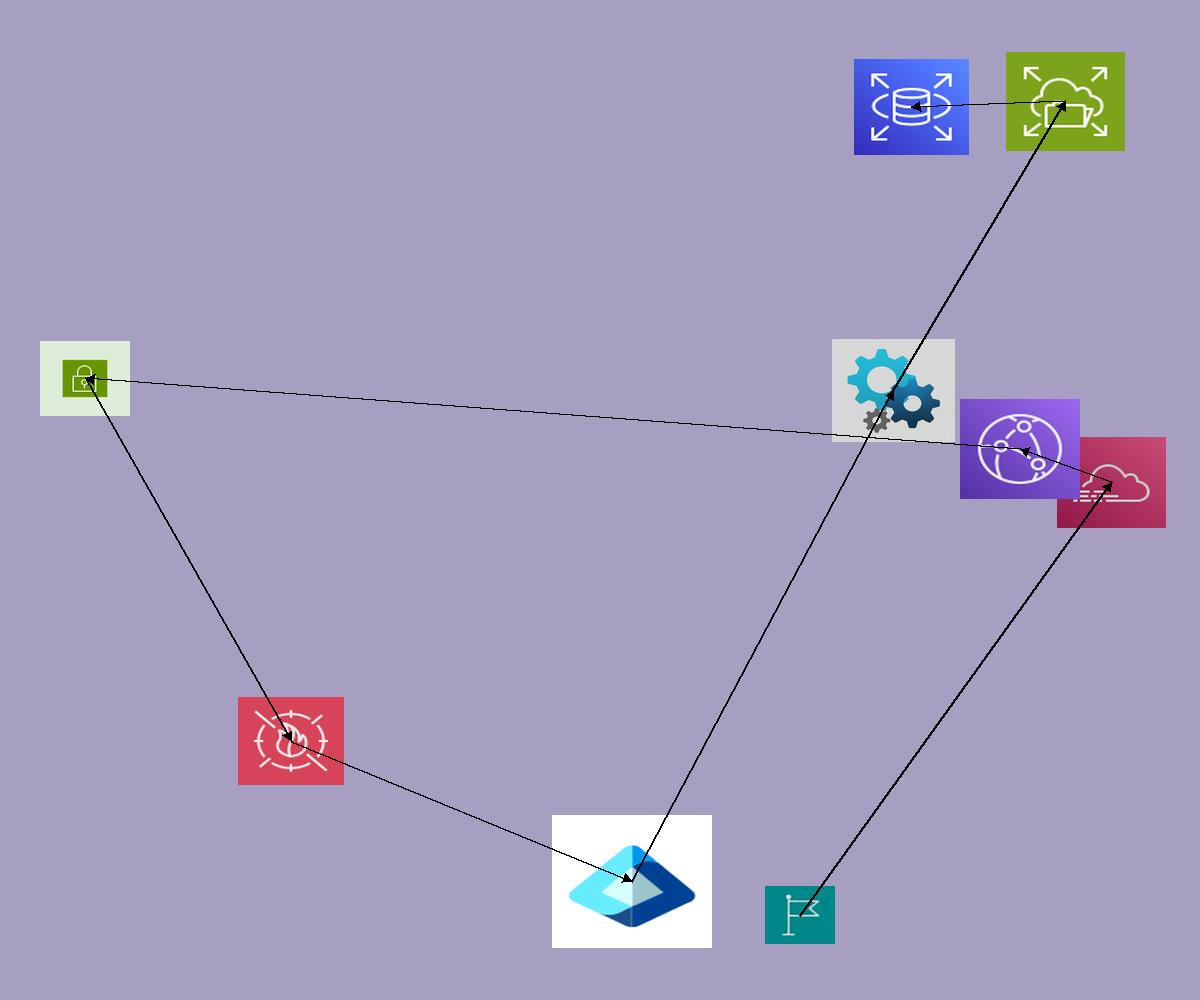AWS-CloudFront: (960, 399, 1080, 499)
AWS-CloudTrail: (1057, 437, 1166, 528)
AWS-EFS: (1006, 52, 1125, 151)
AWS-Public-subnet: (40, 341, 130, 416)
AWS-RDS: (854, 59, 969, 155)
AWS-Region: (765, 886, 835, 944)
AWS-WAF: (238, 697, 344, 785)
Azure_api: (832, 339, 955, 442)
Azure_microsoft_entra: (552, 815, 712, 948)
